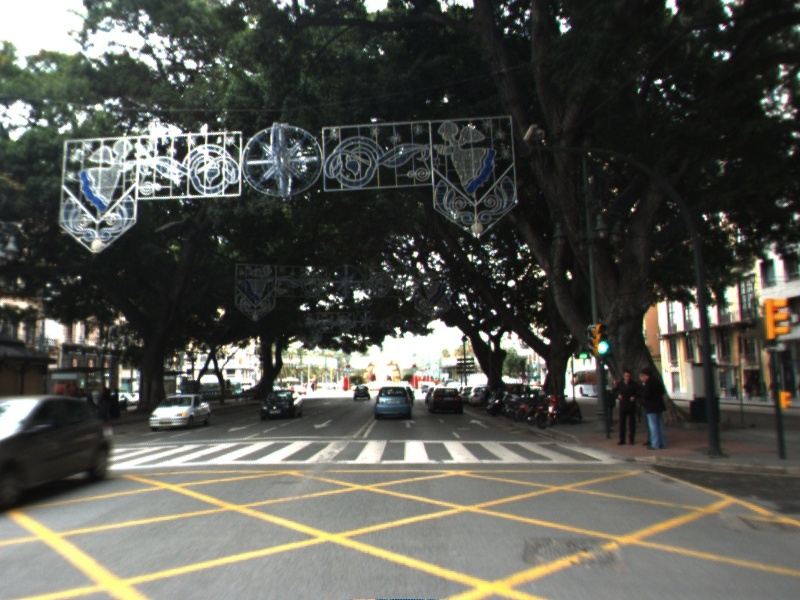STRAIGHT: (467, 417, 492, 431), (398, 418, 418, 430)
